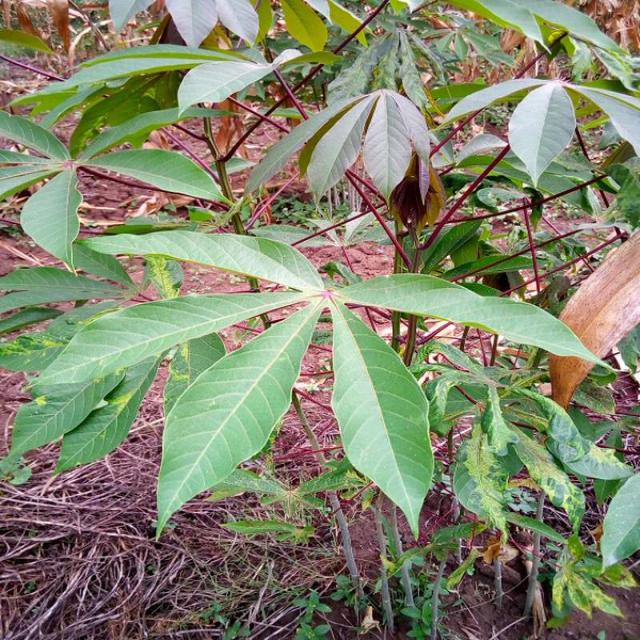cassava leaf: (154, 291, 326, 541), (326, 292, 434, 540), (507, 79, 576, 190)
